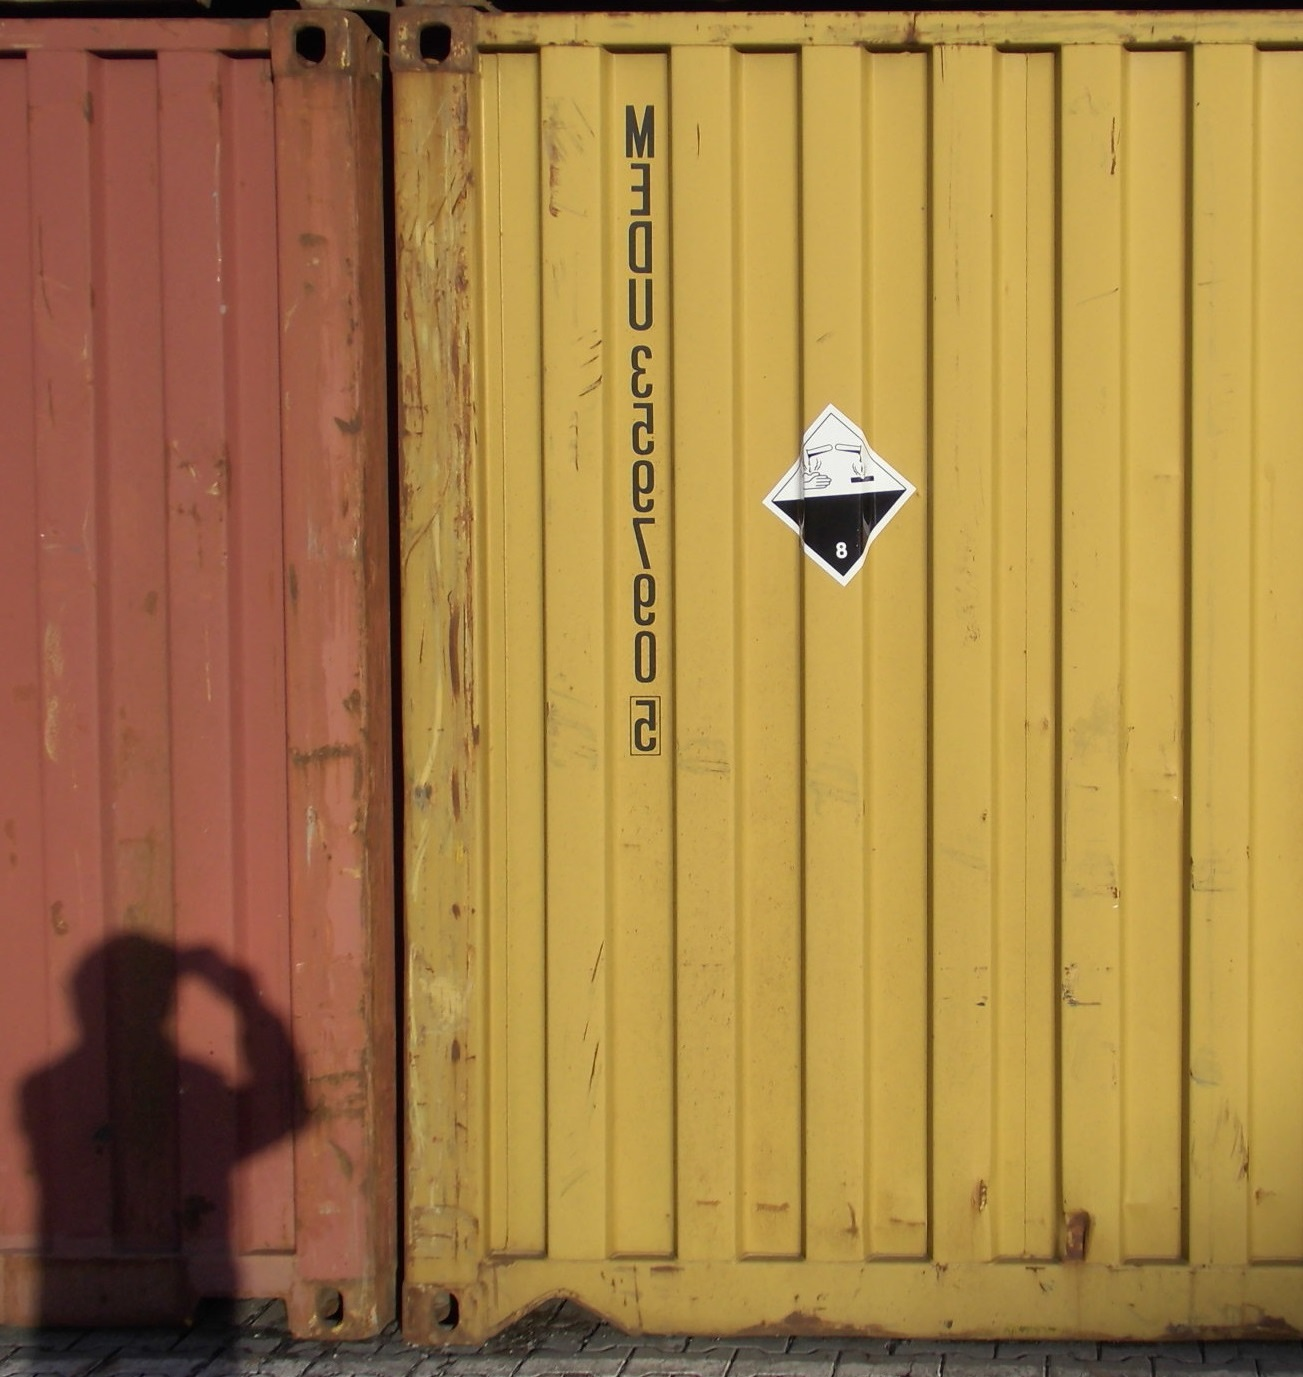container_no_door: (397, 1, 1303, 1350), (1, 1, 370, 1348)
